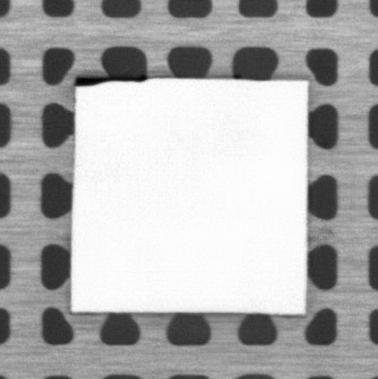DIE_BROKEN: (73, 75, 151, 86)
